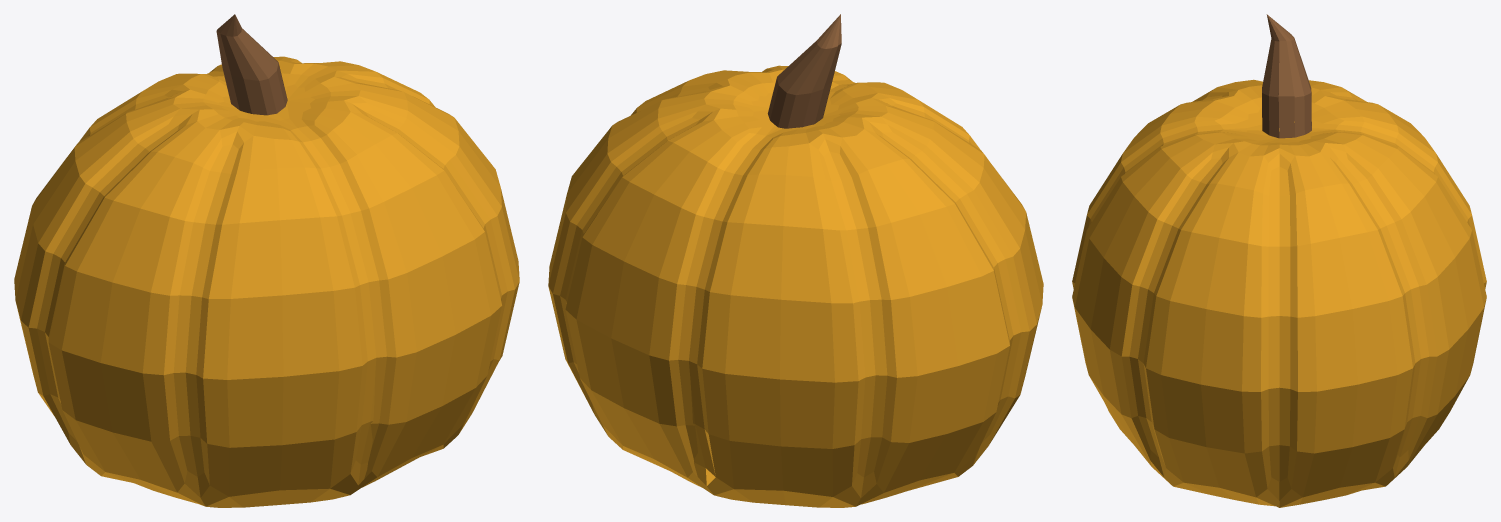
The model's file is jackolantern.glb.
The picture shows the model from 3 angles, left to right: view 1: azimuth 30°, elevation 25°; view 2: azimuth 150°, elevation 25°; view 3: azimuth 270°, elevation 25°; orthographic projection. The views are drawn at different scales.
Parts seen in each view (by area): view 1: pumpkin, top; view 2: pumpkin, top; view 3: pumpkin, top.
Part boxes in pixels (bbox=[...]): pumpkin: bbox=[14, 56, 519, 507]; top: bbox=[216, 14, 287, 115]; pumpkin: bbox=[548, 65, 1043, 507]; top: bbox=[767, 14, 841, 128]; pumpkin: bbox=[1072, 79, 1486, 507]; top: bbox=[1262, 14, 1311, 138].
Bounding box in the file's own units: 1.98 × 1.95 × 1.69.
